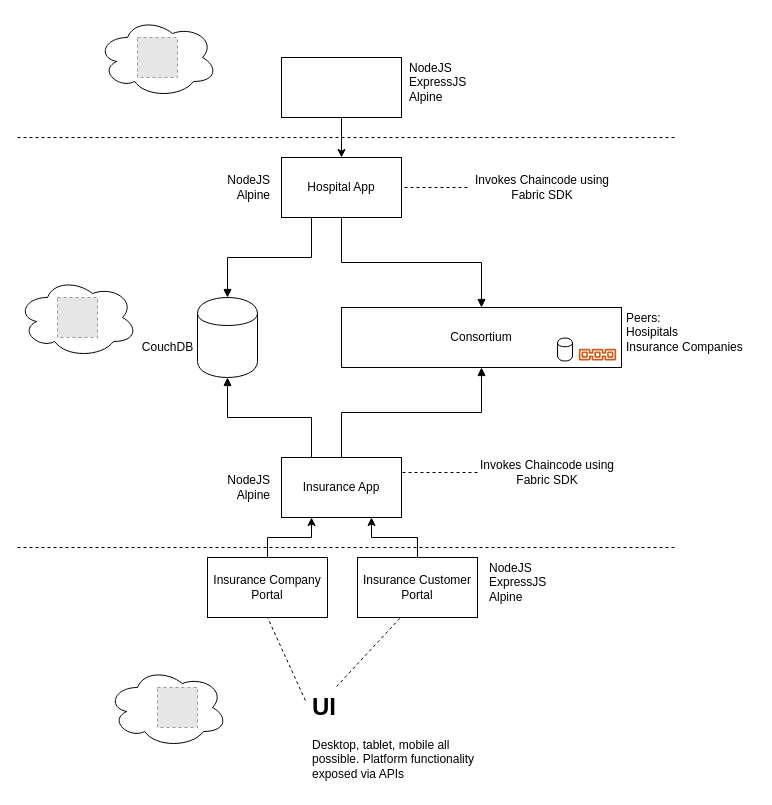
Image size: 772x805. Some labels were removed from this diagram. Grey dashed boxes stand in for pictures. The shapes that lost their labels are listed below. From the top down, each one's centre as x and y in pixels, then its label:
At (341,87): "Hospital Portal".
At (227,337): "Pending Invoices".
